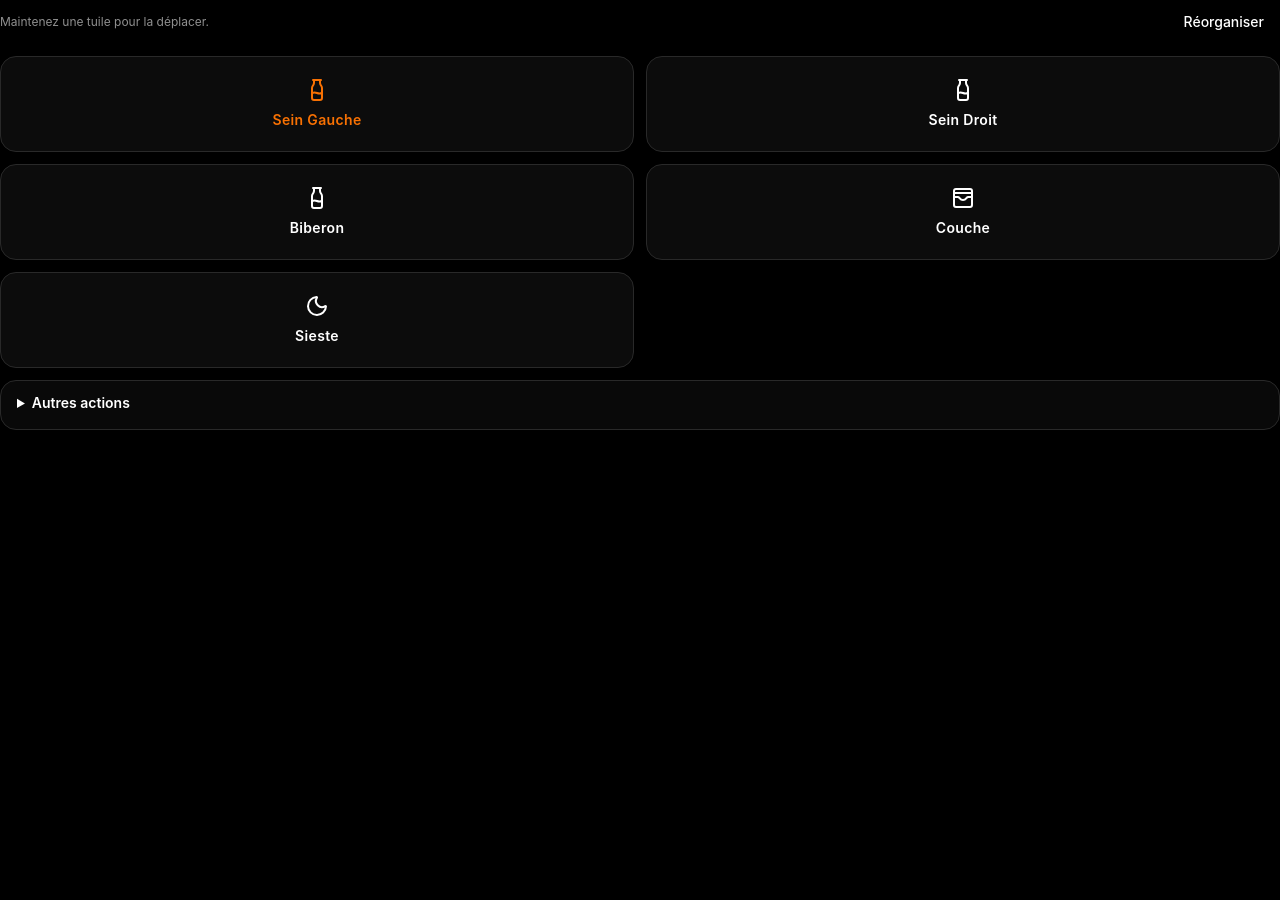
Test: ActionGrid recovery › conserve Température après un échec et permet de réessayer
Step 1. Click the heading "Autres actions" → [81, 402], box top-left (32, 394), bottom-right (130, 411)
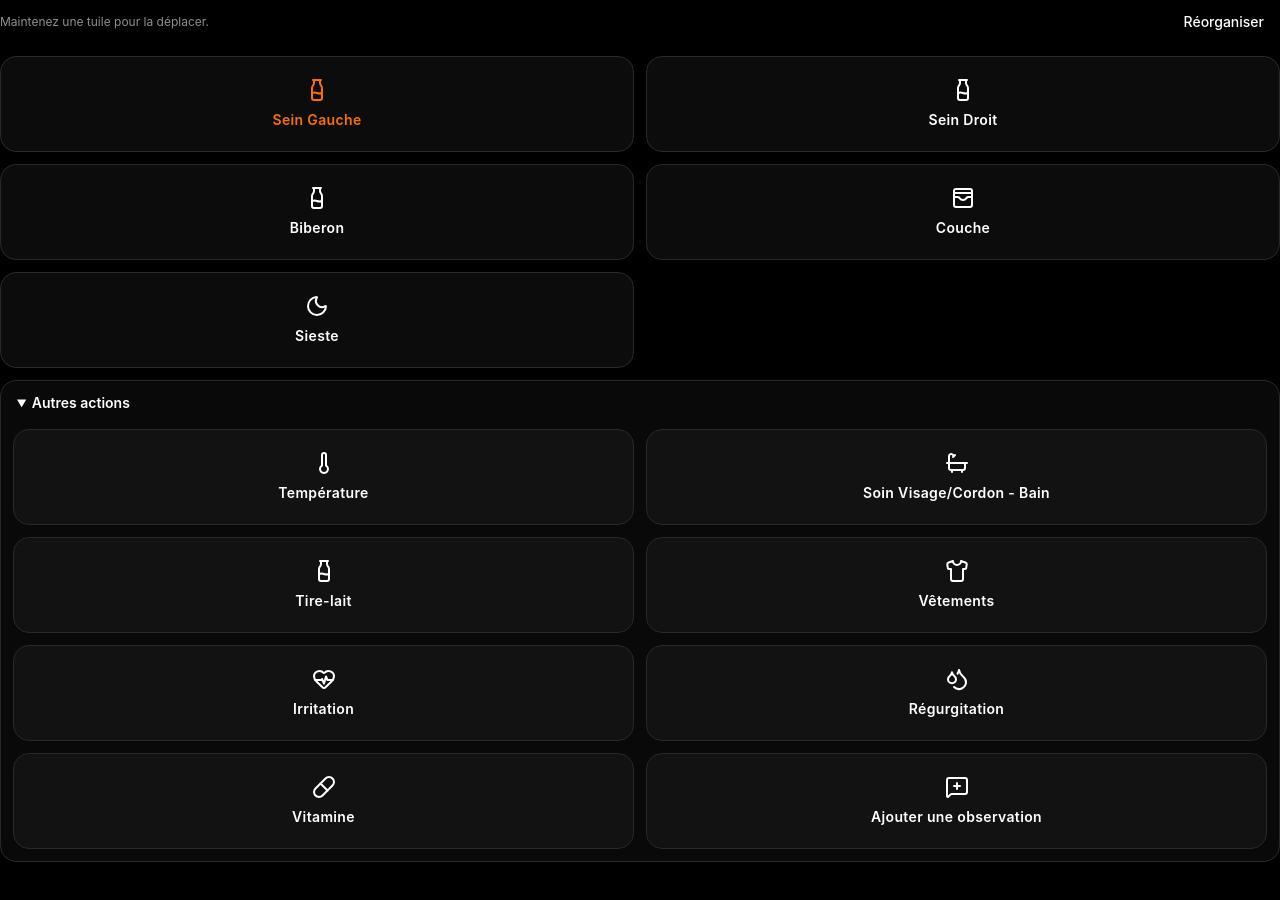
Step 2. Click the button "Température" → [324, 477], box top-left (13, 429), bottom-right (634, 525)
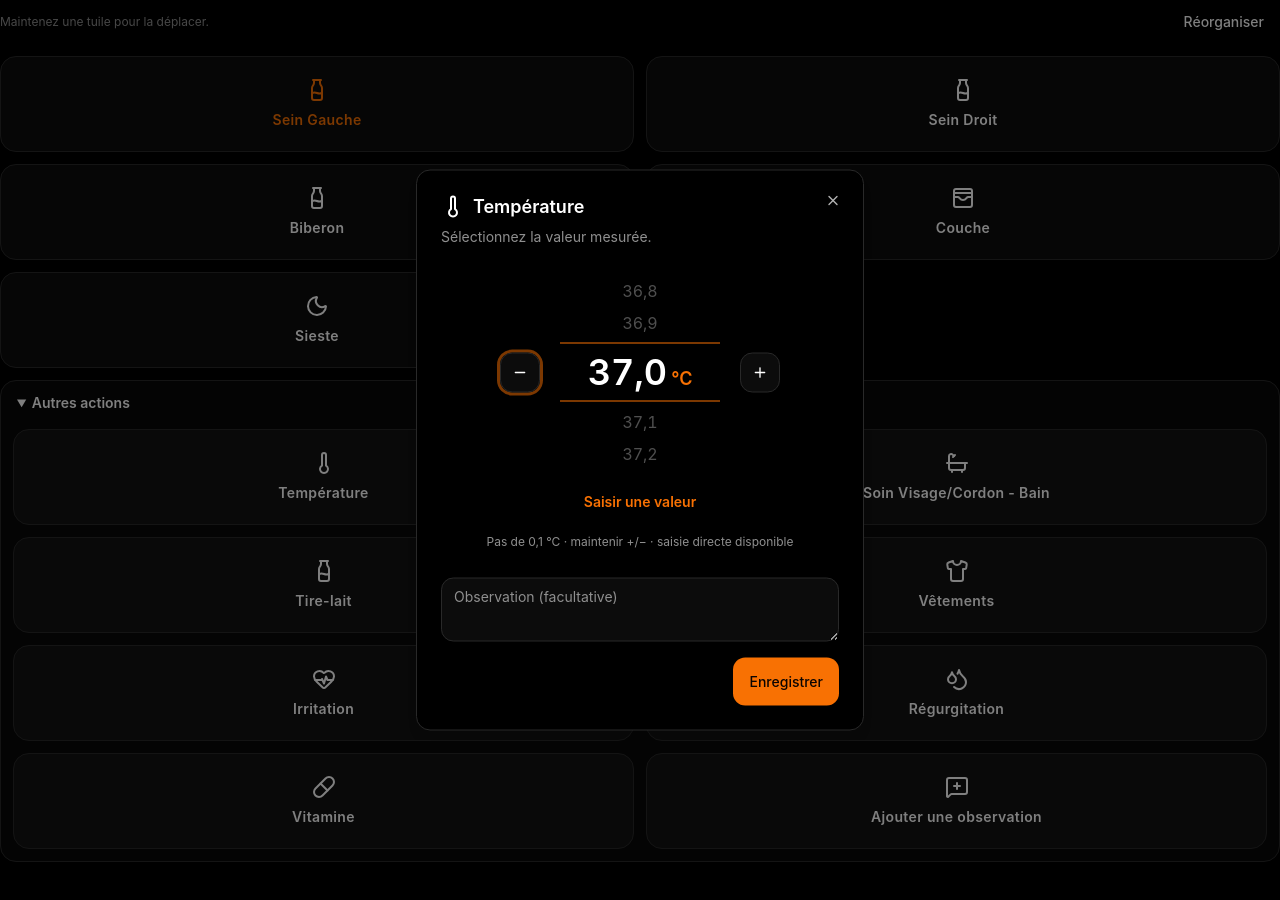
Step 3. Type "Note à conserver" into the text box → [640, 610], box top-left (441, 578), bottom-right (839, 642)
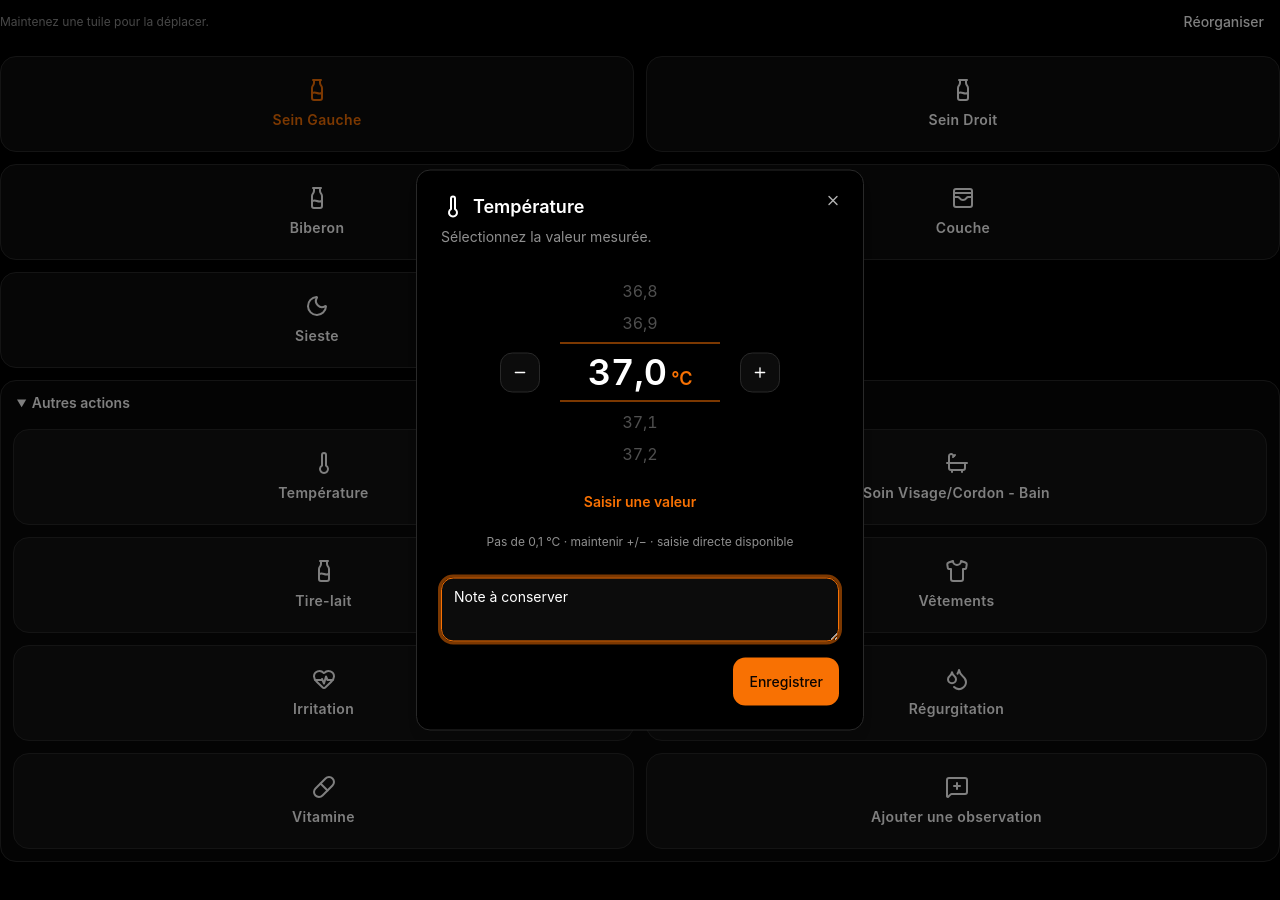
Step 4. Click the button "Enregistrer" → [786, 682], box top-left (734, 658), bottom-right (839, 706)
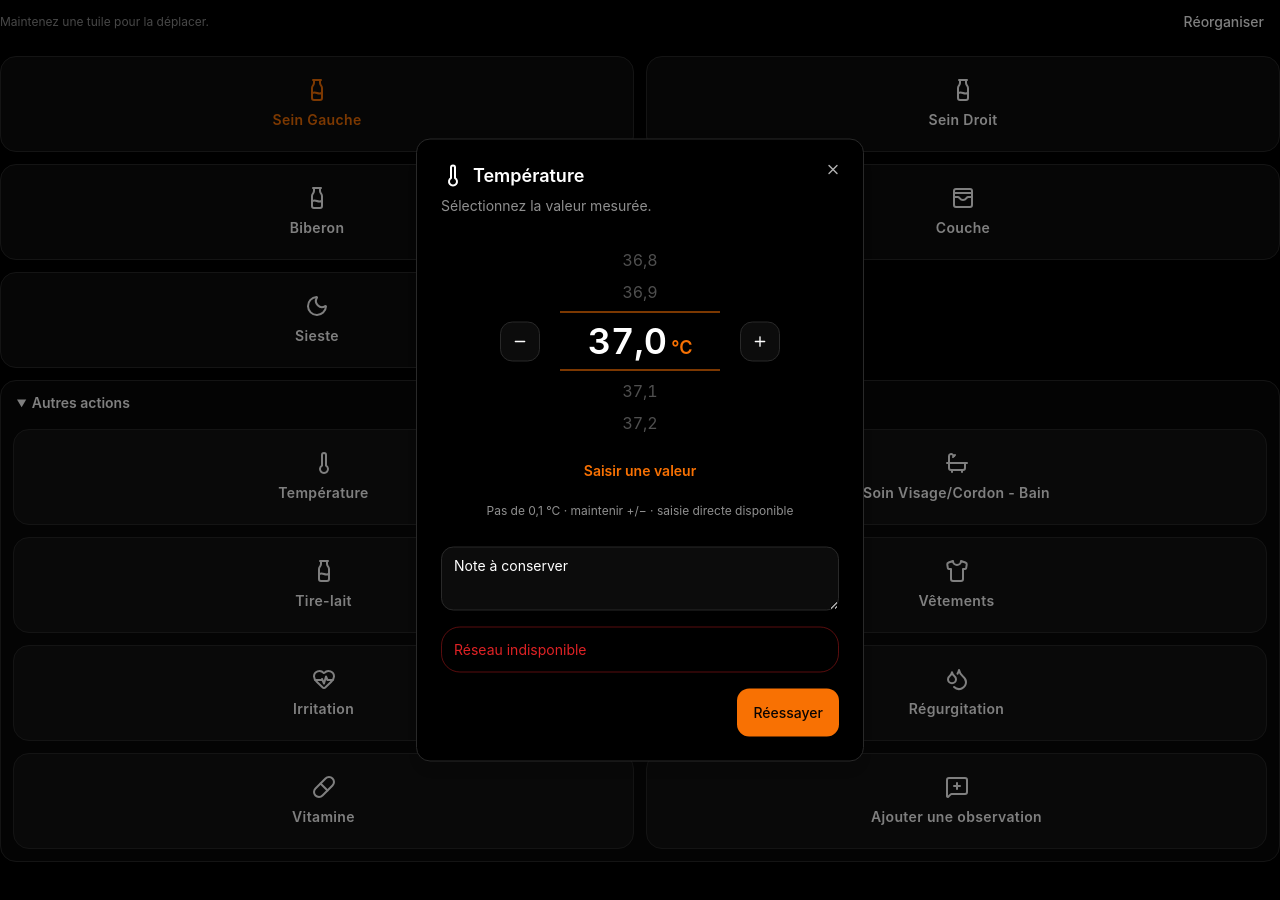
Expected: the dialog is shown, top-left (416, 138), bottom-right (864, 762)
Expected: the message reads "Réseau indisponible", top-left (454, 640), bottom-right (586, 658)
Step 5. Click the button "Réessayer" → [788, 712], box top-left (737, 688), bottom-right (839, 736)
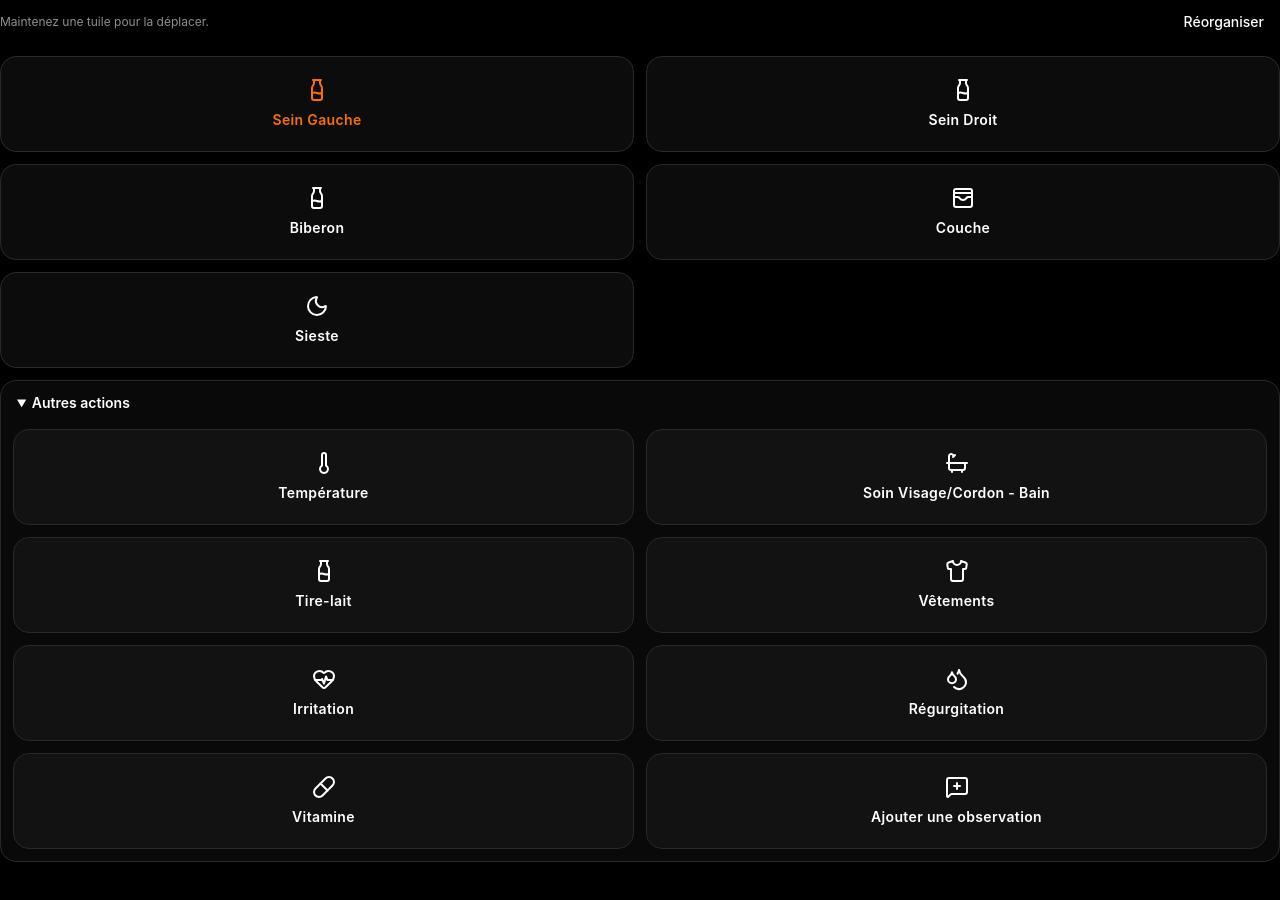
Expected: the dialog is gone
